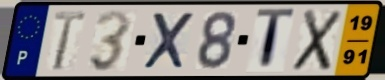3: (86, 8, 136, 74)
8: (195, 9, 239, 71)
T: (254, 6, 298, 74), (50, 9, 88, 73)
X: (289, 8, 345, 73), (140, 10, 197, 71)
